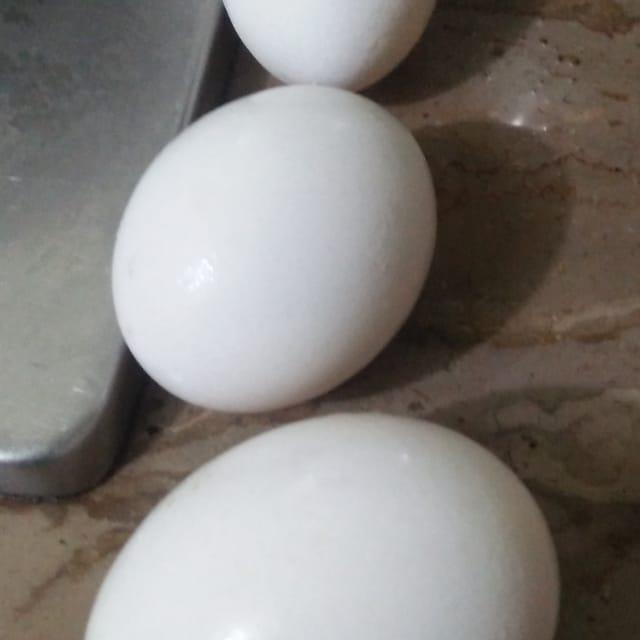egg: (77, 410, 581, 640), (112, 90, 472, 401), (202, 0, 459, 83)
